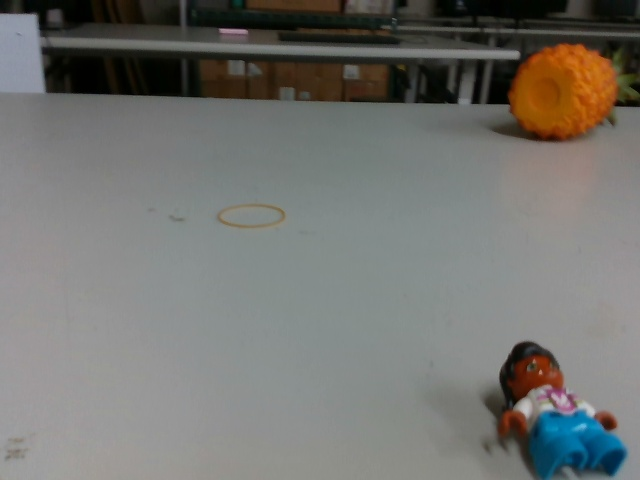people: (490, 334, 633, 480)
